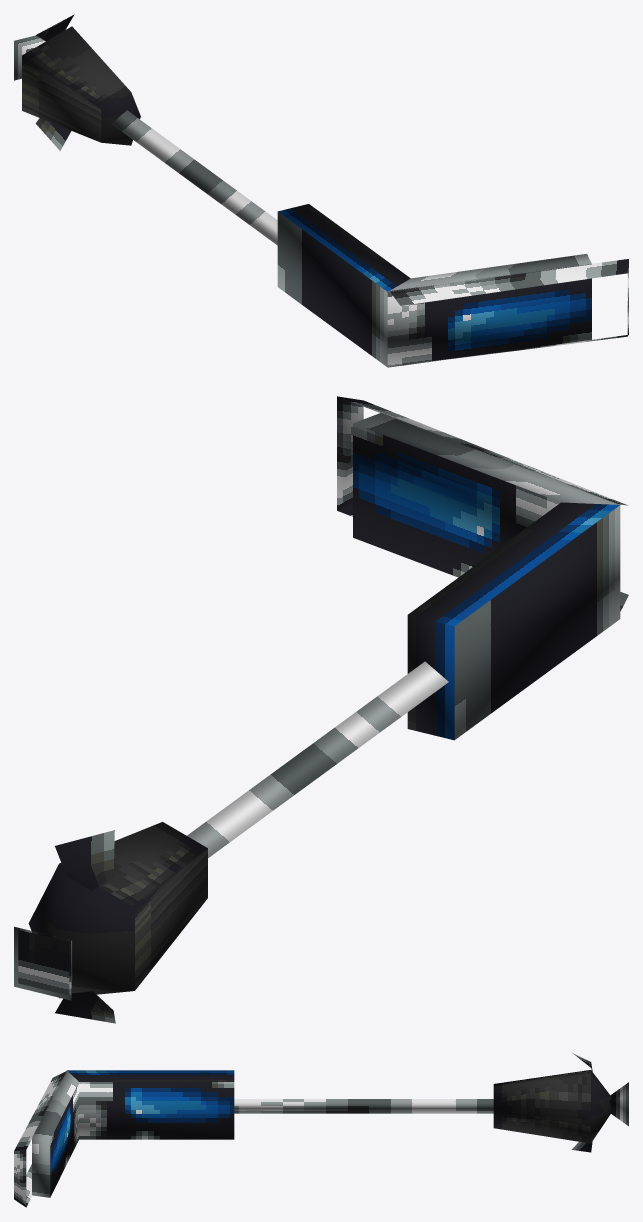
3 views of the same model, one above another, from view 1: azimuth 30°, elevation 25°; view 2: azimuth 150°, elevation 25°; view 3: azimuth 270°, elevation 25° (orthographic). The views are drawn at different scales.
Parts seen in each view (by area): view 1: 2708sbim03_01; view 2: 2708sbim03_01; view 3: 2708sbim03_01.
Part boxes in pixels (bbox=[...]): 2708sbim03_01: bbox=[14, 14, 628, 367]; 2708sbim03_01: bbox=[14, 396, 628, 1023]; 2708sbim03_01: bbox=[14, 1053, 628, 1207].
Size of the model in its own units: 0.731 by 0.3789 by 2.16.
1 material, 1 textured.
